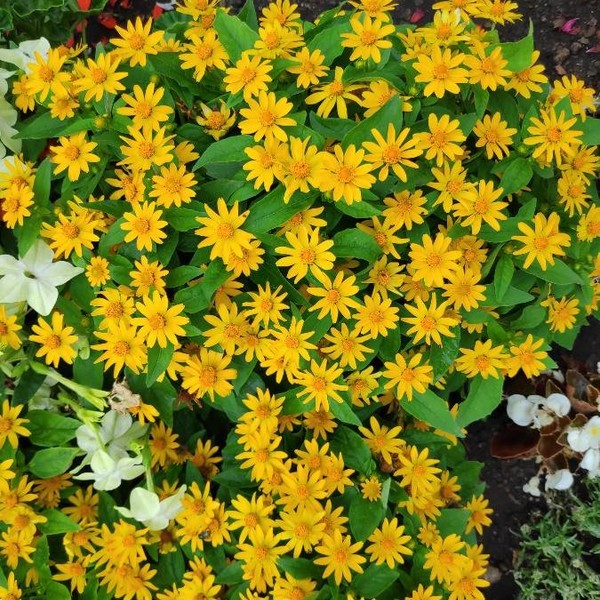obstacle: (54, 33, 478, 522)
